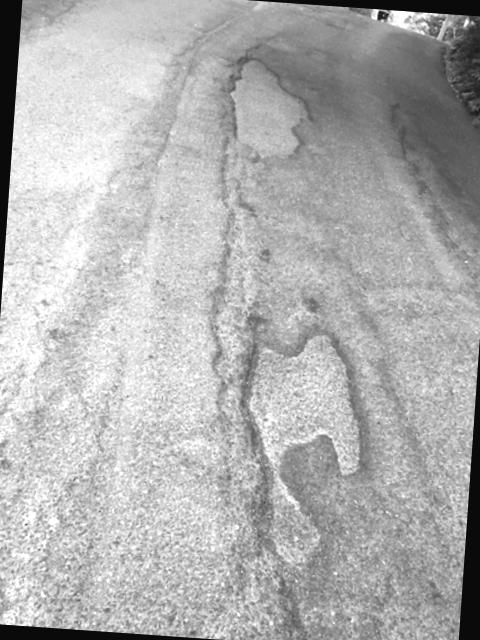Pothole: (156, 280, 387, 574), (198, 44, 353, 176)
